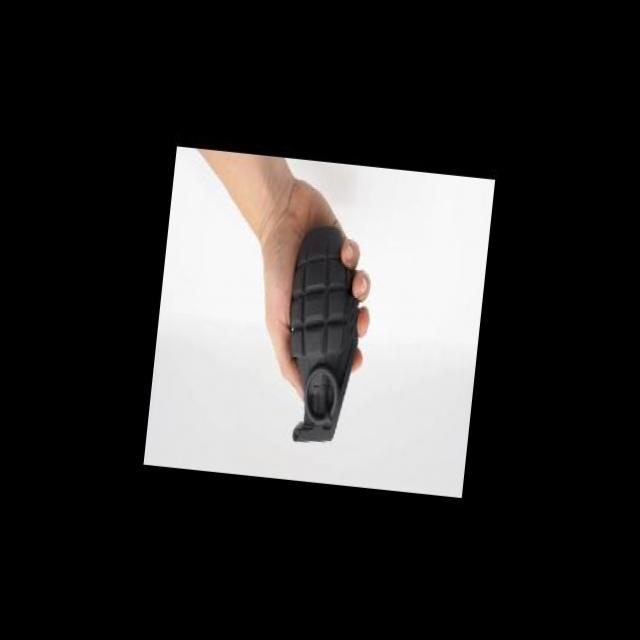grenade: (278, 198, 378, 455)
